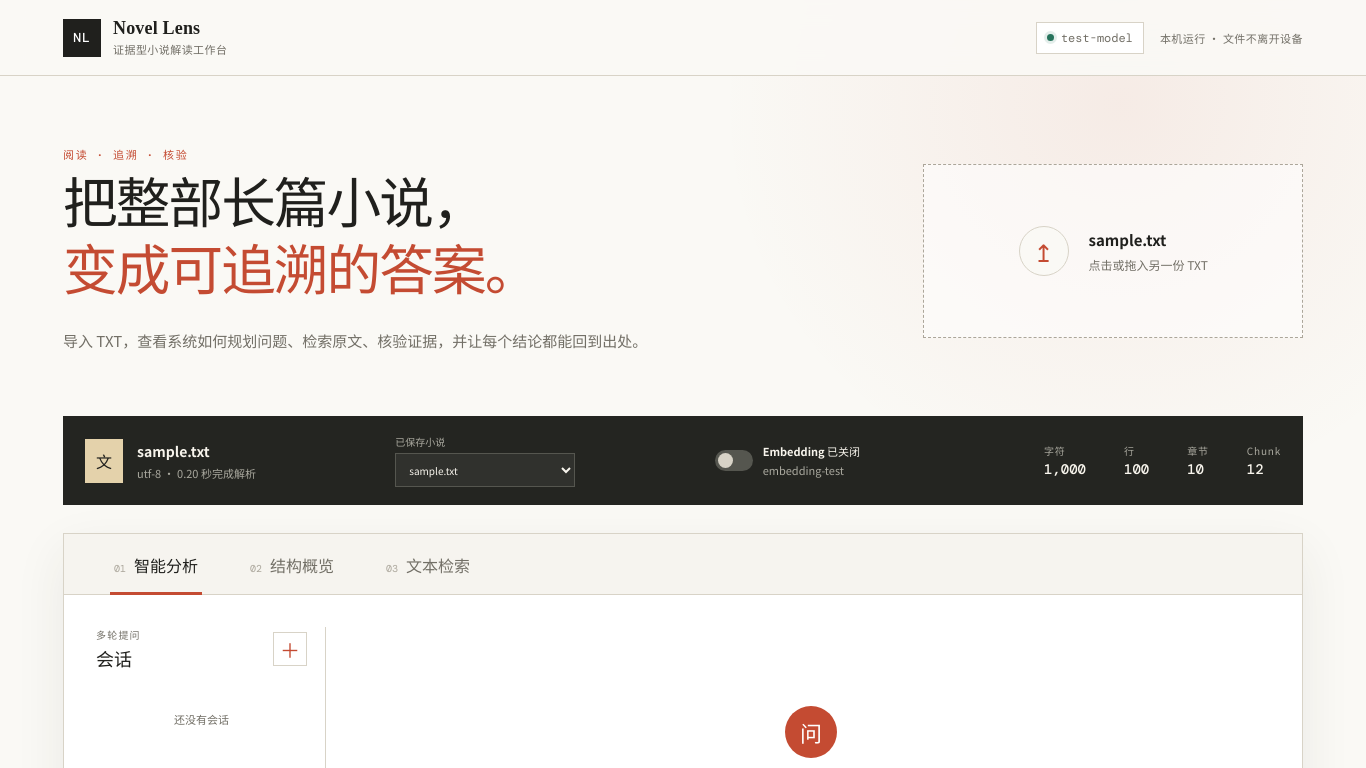
App upload workflow › restores the last selected persisted novel and switches between saved novels
This screenshot has width=1366, height=768.
Expected: the element with class "book-strip" shows "sample.txt", [137,440,210,460]
Select "second.txt" in the dropdown labelled "已保存小说" at [485, 470], box [395,453,575,487]
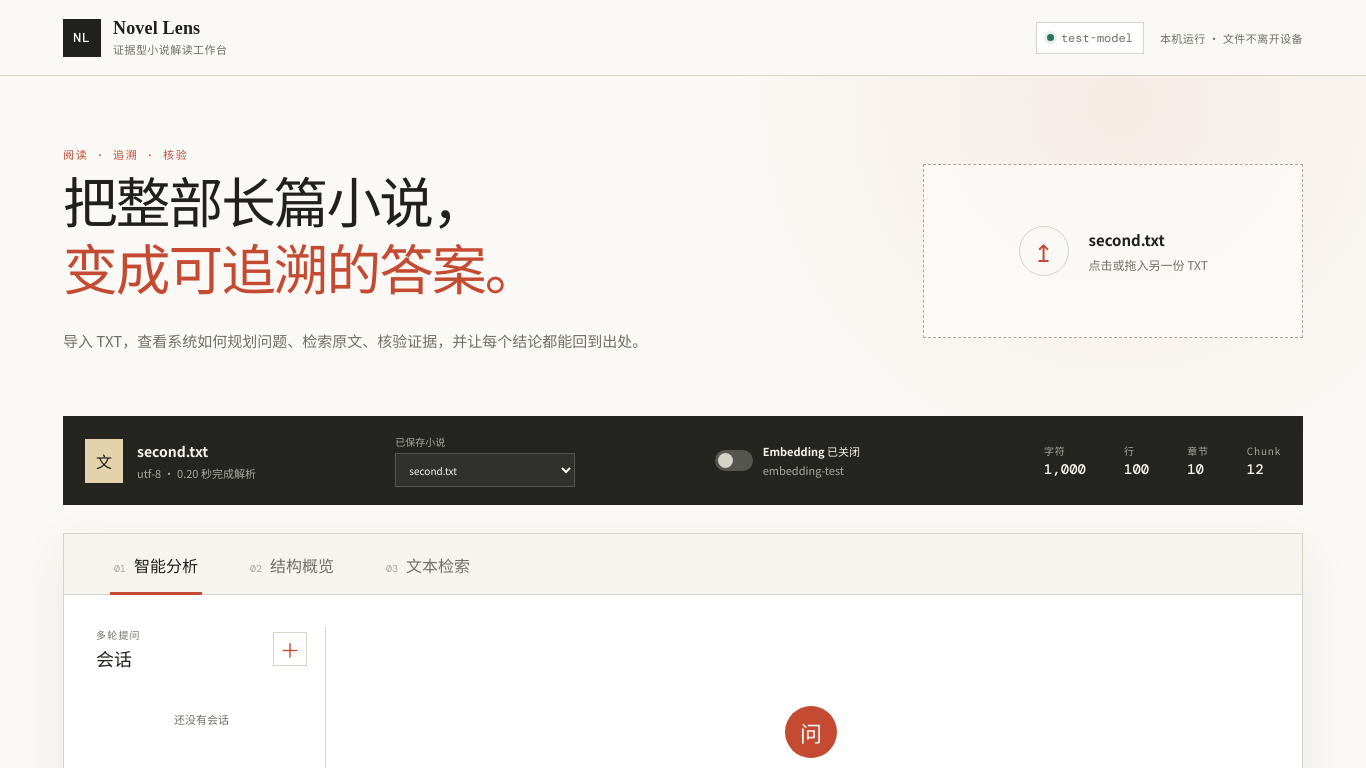
Expected: the element with class "book-strip" shows "second.txt", [137,440,208,460]
